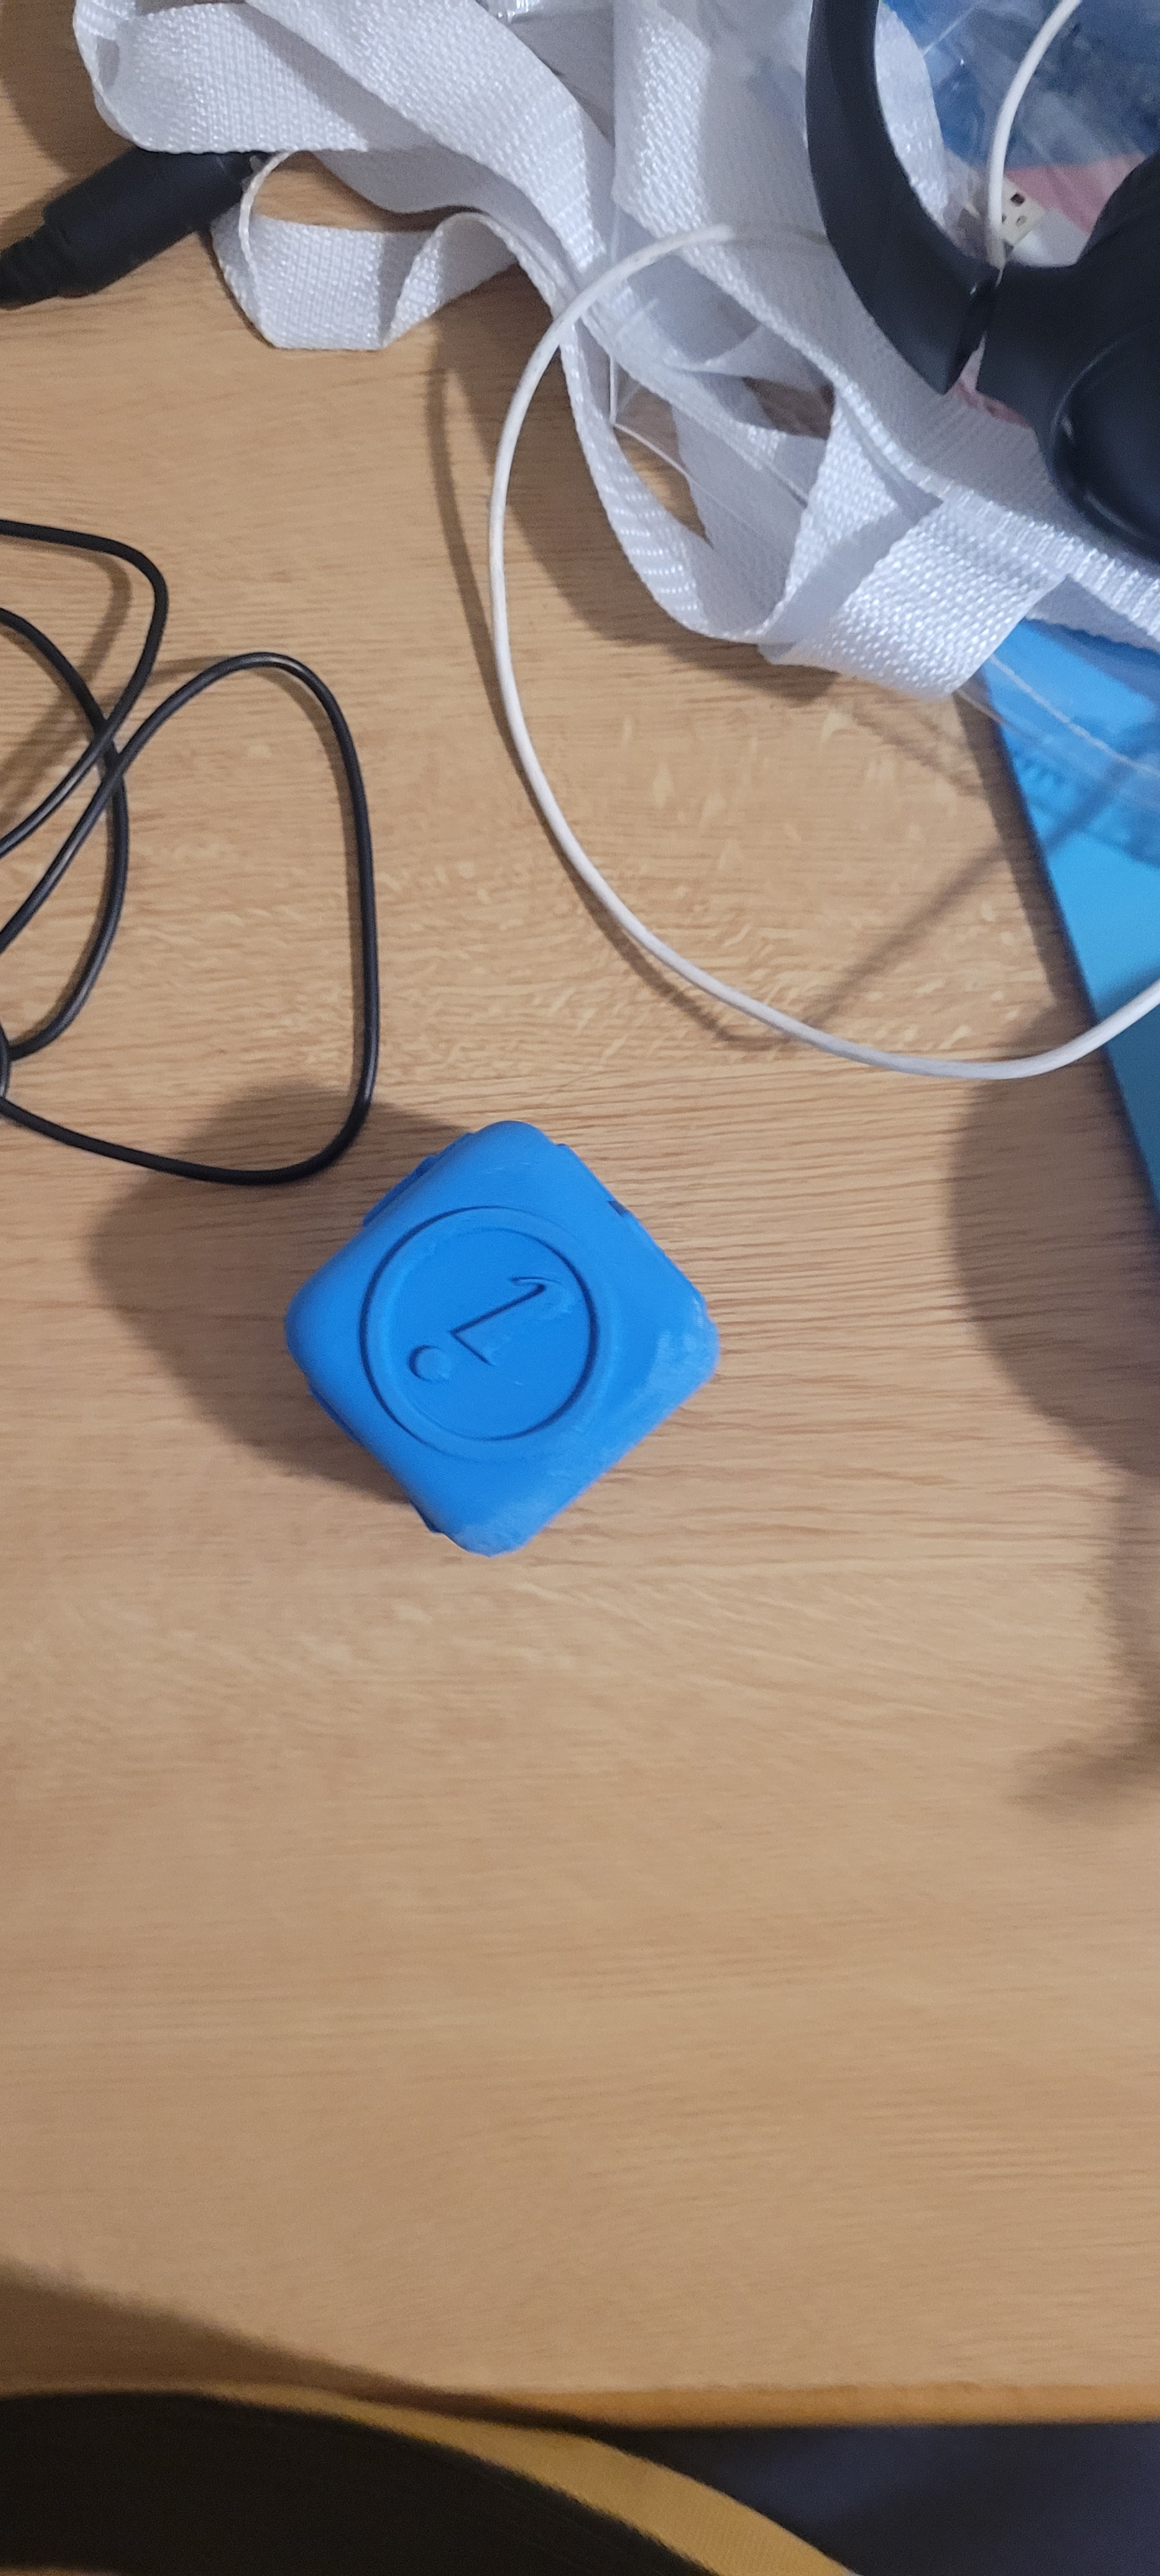Info: (311, 1184, 619, 1539)
